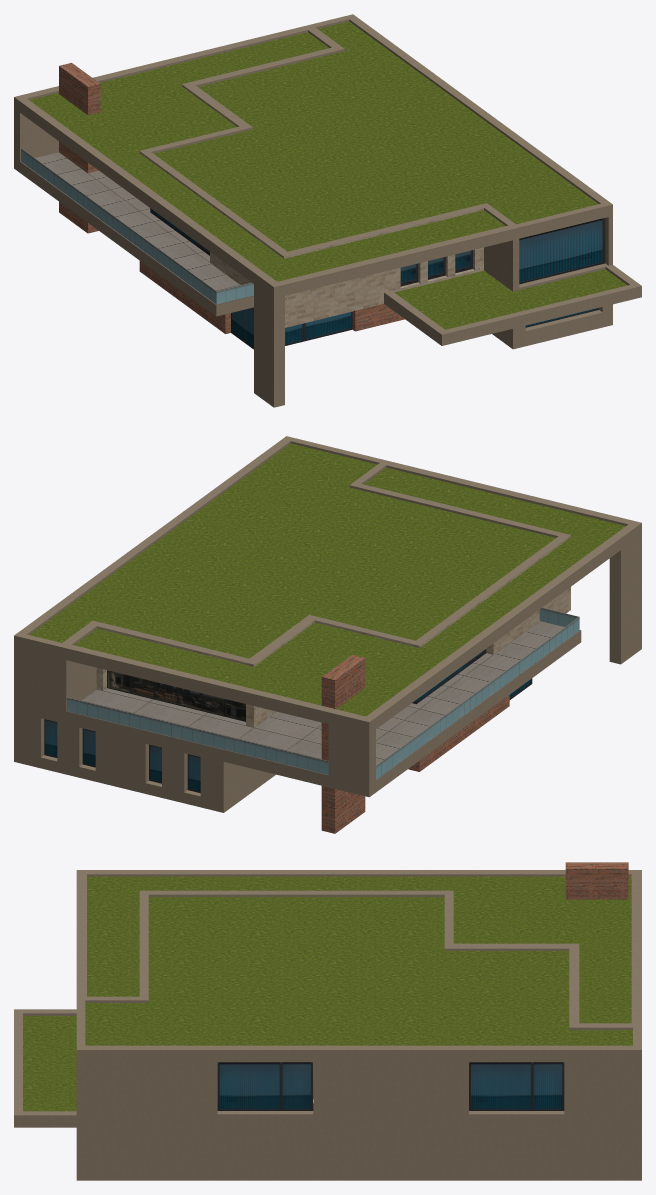
File: SM_DemoBuilding_1_A.fbx
3 renders of one model, top to bottom at view 1: azimuth 30°, elevation 25°; view 2: azimuth 150°, elevation 25°; view 3: azimuth 270°, elevation 25°, orthographic. The views are drawn at different scales.
Parts seen in each view (by area): view 1: SM_DemoBuilding_1_A_LOD0; view 2: SM_DemoBuilding_1_A_LOD0; view 3: SM_DemoBuilding_1_A_LOD0.
Boxes of the visible parts, box(x1,y1,x2,y2) form: SM_DemoBuilding_1_A_LOD0: box(14, 14, 641, 407); SM_DemoBuilding_1_A_LOD0: box(14, 436, 641, 833); SM_DemoBuilding_1_A_LOD0: box(14, 862, 641, 1180).
Size of what is drawn, in the model's own units: 26.76 by 11.06 by 39.48.
